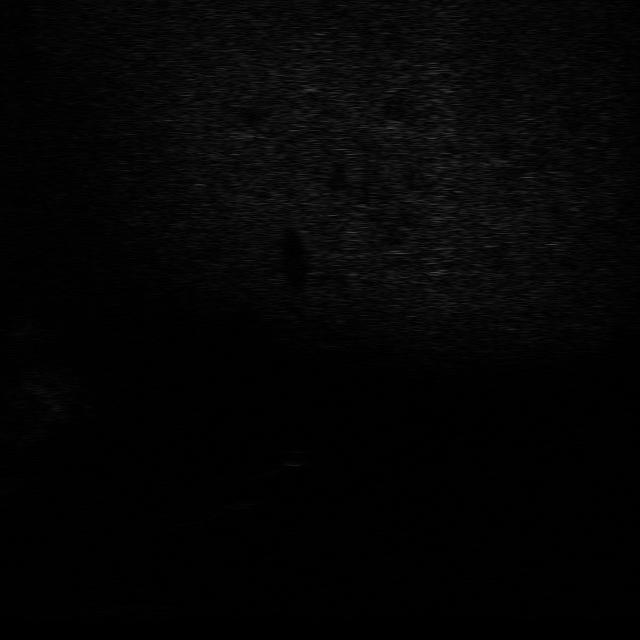ball: (266, 443, 314, 469)
square cage: (203, 484, 275, 516)
